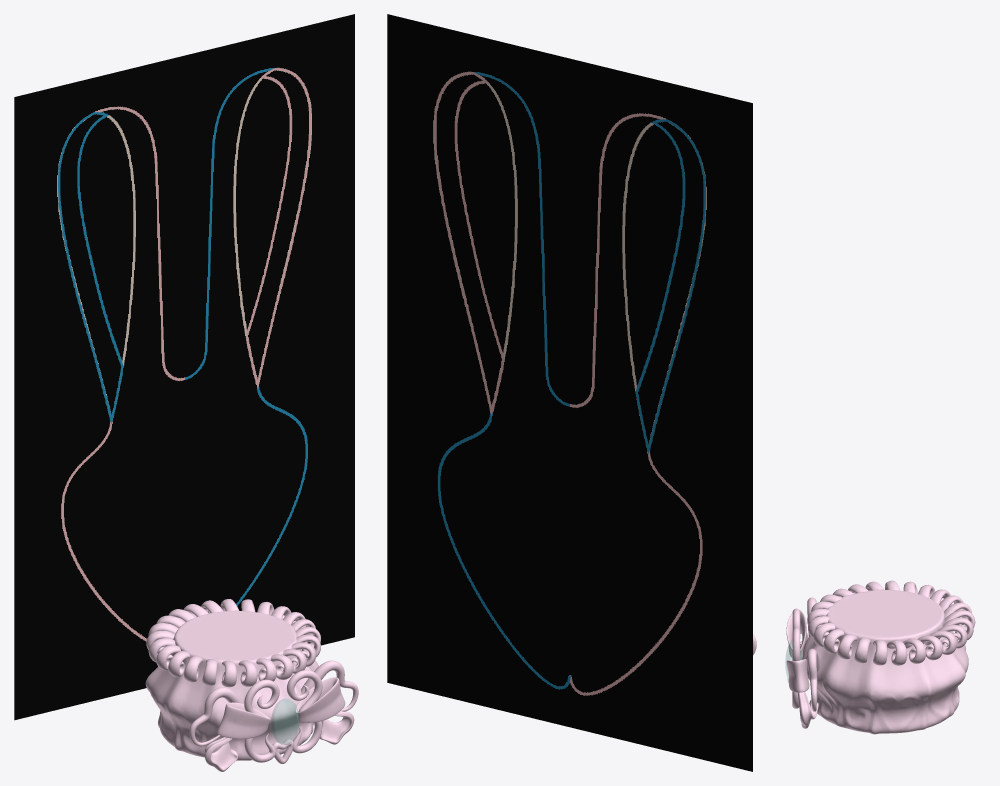
The model's file is magicalDecor.gltf.
3 renders of one model, left to right at view 1: azimuth 30°, elevation 25°; view 2: azimuth 150°, elevation 25°; view 3: azimuth 270°, elevation 25°, orthographic. The views are drawn at different scales.
Visible parts, largest first — view 1: Logo-22, Stood; view 2: Logo-22; view 3: Stood.
Boxes of the visible parts, x1,y1,x2,y2 form: Logo-22: (14,14,354,720); Stood: (145,599,358,771); Logo-22: (387,14,752,771); Stood: (785,580,975,734).
Bounding box in the file's own units: 1.55 × 2.77 × 0.8225.
10 materials, 1 textured.
